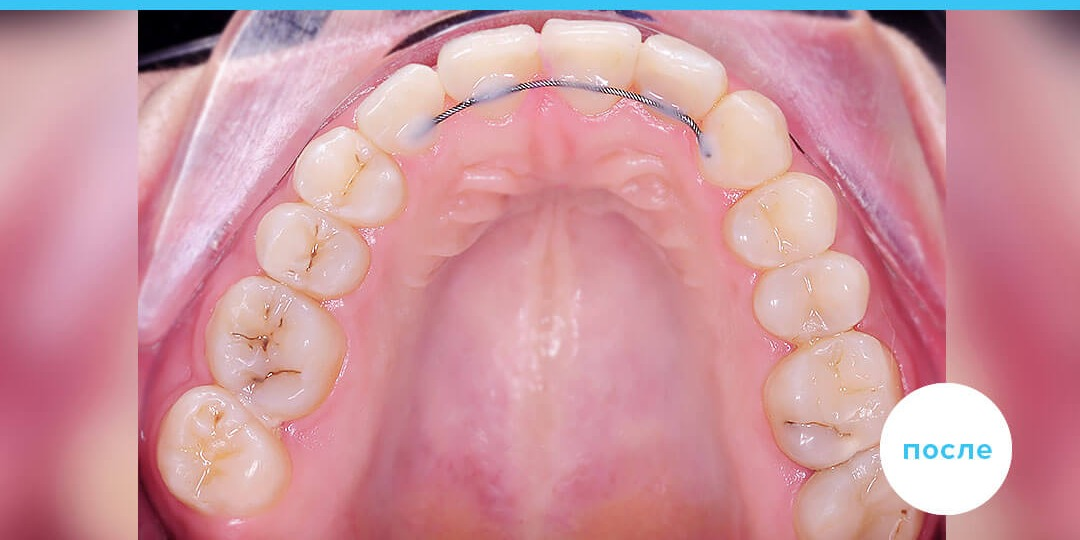UL1BC_healthy: (728, 171, 835, 266)
UL1M_decay: (765, 335, 882, 469)
UL2BC_healthy: (754, 254, 867, 337)
ULCI_decay: (543, 21, 639, 114)
ULC_decay: (699, 92, 791, 185)
ULLI_decay: (639, 33, 725, 125)
UR1BC_decay: (256, 204, 367, 297)
UR1M_decay: (160, 393, 284, 515)
UR2BC_decay: (207, 280, 337, 411)
URCI_decay: (439, 22, 542, 115)
URC_healthy: (294, 126, 402, 225)
URLI_decay: (360, 63, 443, 152)
